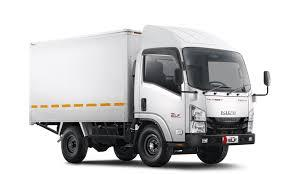truck: (127, 22, 275, 152)
